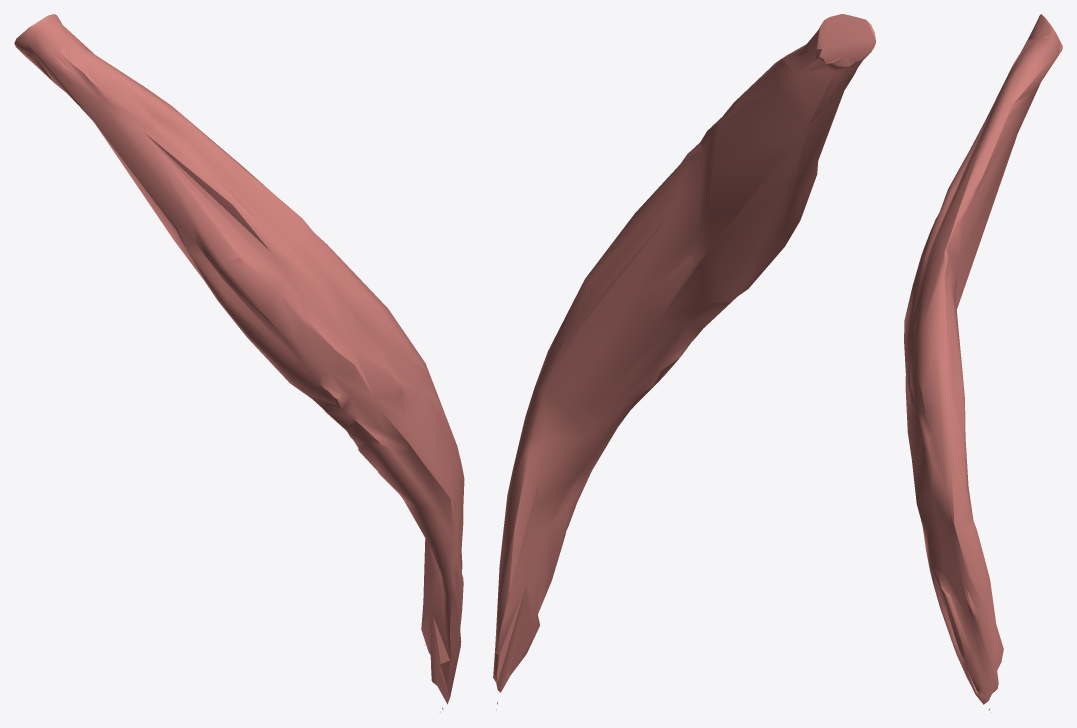
The model's file is fma38563_fj1516m.glb.
The picture shows the model from 3 angles, left to right: view 1: azimuth 30°, elevation 25°; view 2: azimuth 150°, elevation 25°; view 3: azimuth 270°, elevation 25°; orthographic projection. The views are drawn at different scales.
Parts seen in each view (by area): view 1: FMA38563_FJ1516M; view 2: FMA38563_FJ1516M; view 3: FMA38563_FJ1516M.
Boxes of the visible parts, box(x1,y1,x2,y2) form: FMA38563_FJ1516M: box(14, 14, 464, 712); FMA38563_FJ1516M: box(493, 14, 875, 710); FMA38563_FJ1516M: box(904, 14, 1062, 712).
Bounding box in the file's own units: 0.052 × 0.0957 × 0.0243.
